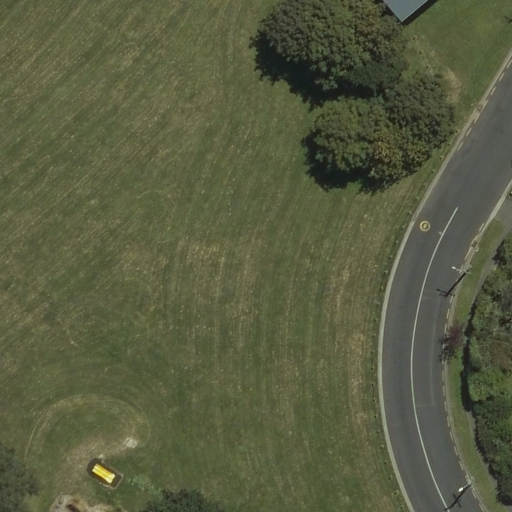DT: (453, 464, 482, 501), (446, 258, 479, 289)
